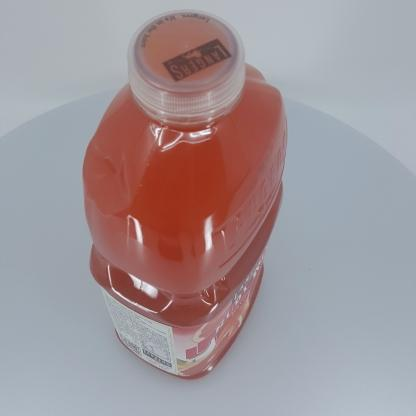---------------: (83, 9, 287, 380)
